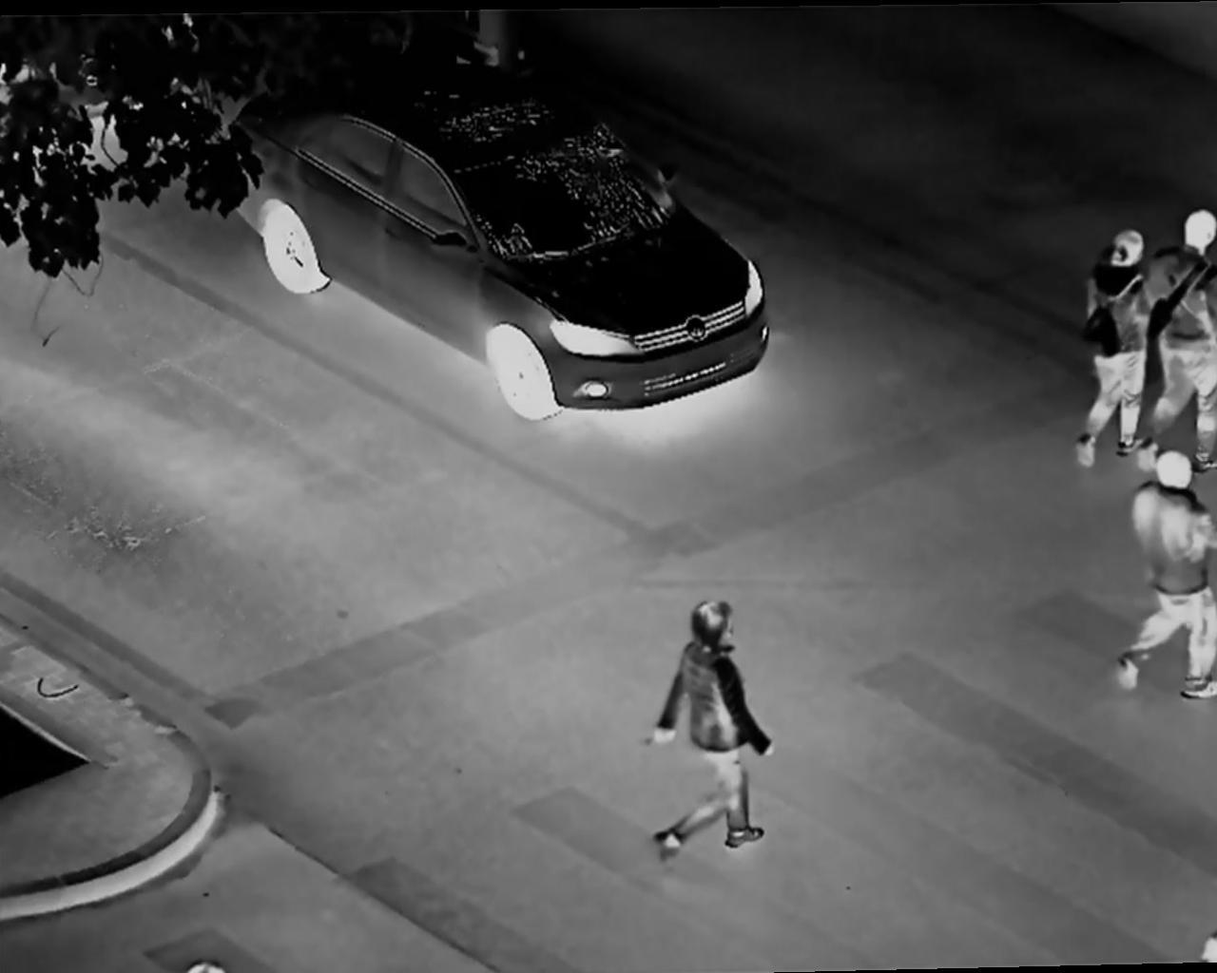person: (649, 595, 765, 868), (1121, 440, 1213, 710), (1152, 198, 1217, 451), (1085, 225, 1149, 458)
